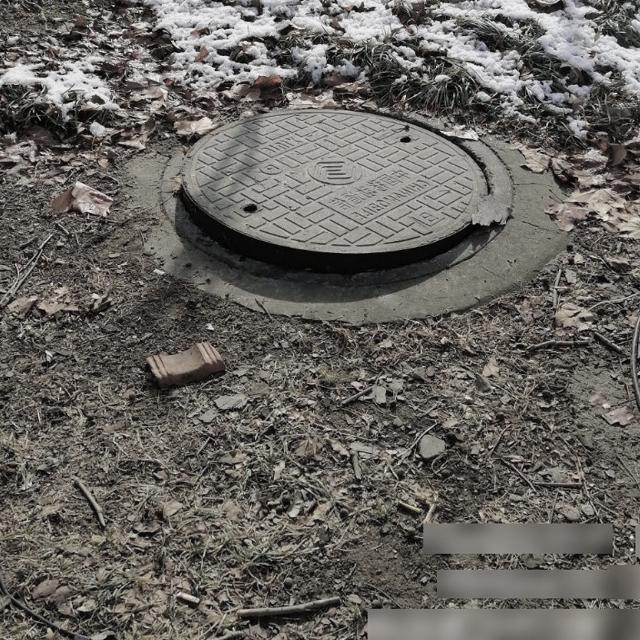uncovered: (162, 91, 520, 269)
